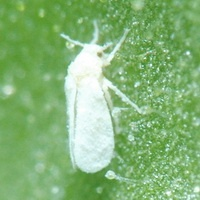insect: (60, 20, 128, 172)
